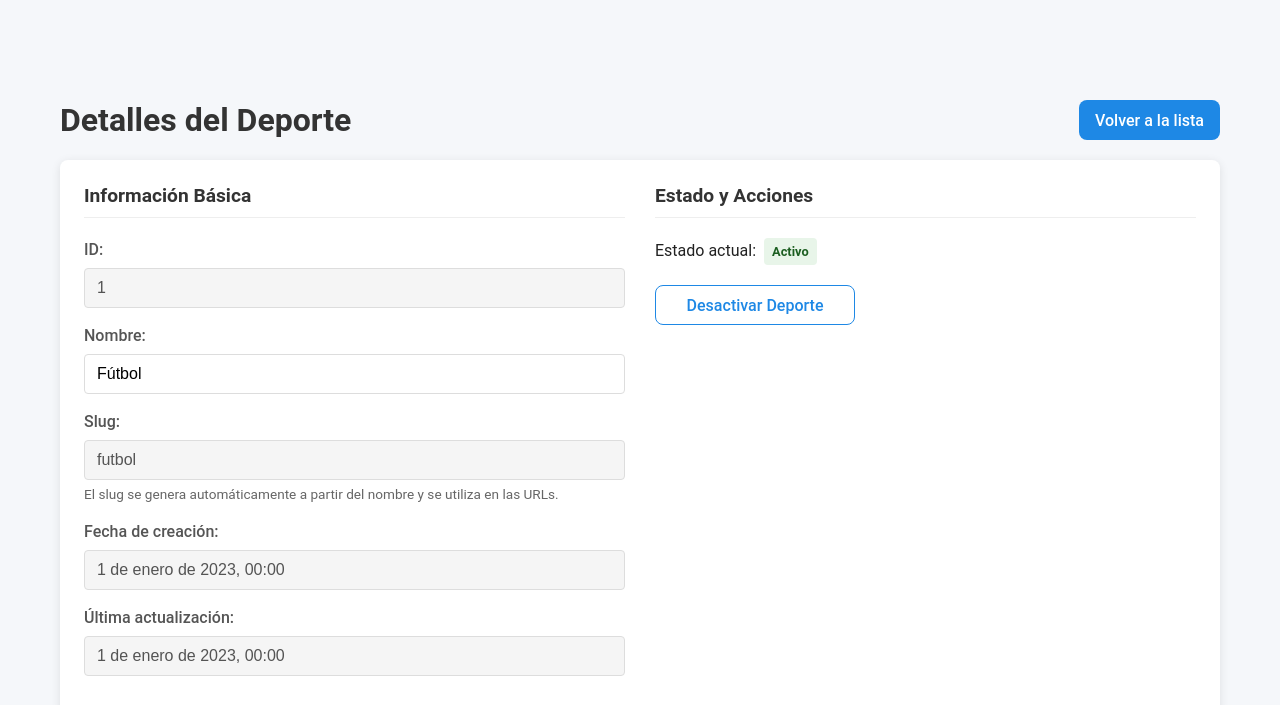
Test case: SportDetail Component › deactivates sport when clicking on Desactivar Deporte
Note: Desactivar el deporte
Click the button "Desactivar Deporte".
click(755, 305)  # box left=655, top=285, right=855, bottom=325
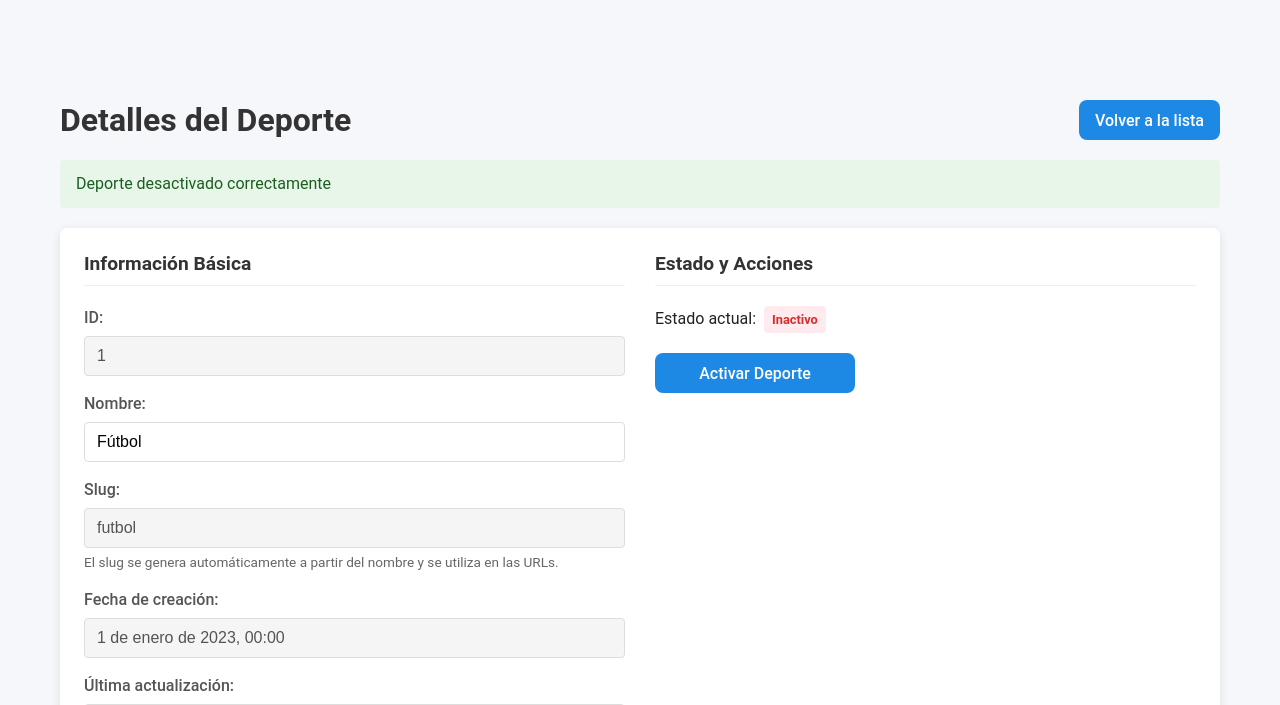
Now the text "Deporte desactivado correctamente" is shown, box left=60, top=160, right=1220, bottom=208
